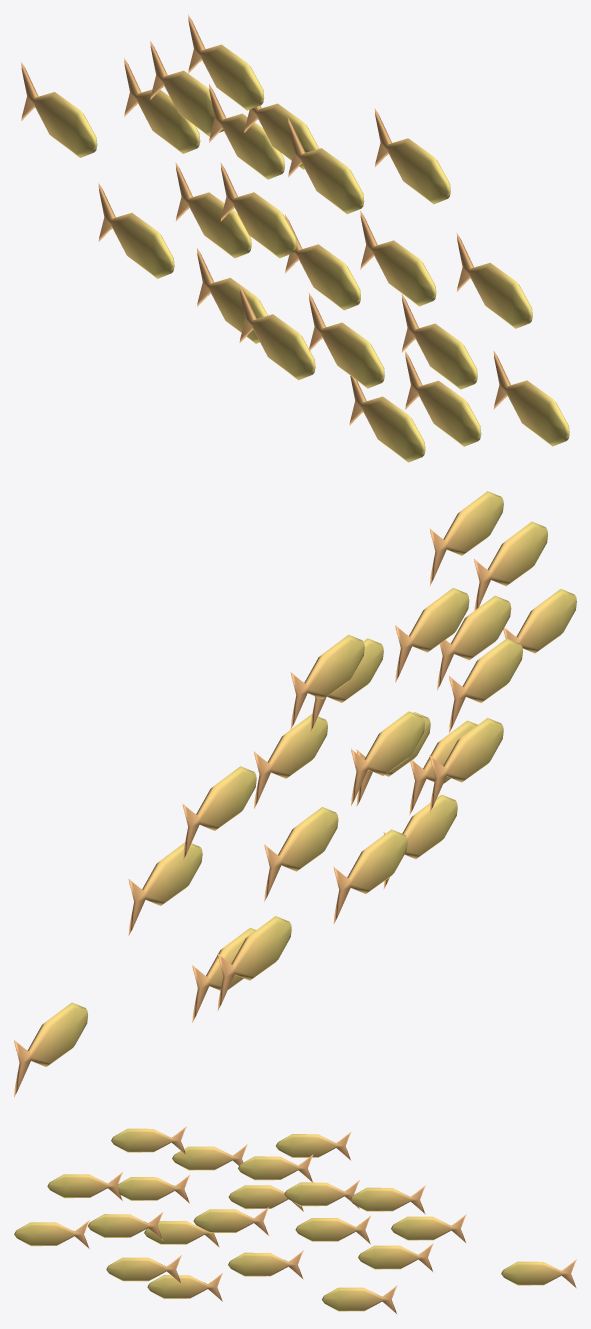
The model's file is fish5.fbx.
The picture shows the model from 3 angles, top to bottom: view 1: azimuth 30°, elevation 25°; view 2: azimuth 150°, elevation 25°; view 3: azimuth 270°, elevation 25°; orthographic projection. The views are drawn at different scales.
Visible parts, largest first — view 1: obj5; view 2: obj5; view 3: obj5.
Boxes of the visible parts, left/top/right/bottom form: obj5: left=21, top=14, right=569, bottom=462; obj5: left=14, top=491, right=576, bottom=1097; obj5: left=14, top=1126, right=576, bottom=1314.
Size of the model in its own units: 11.33 by 47.22 by 133.
Materials: 1 (1 with a texture image).
